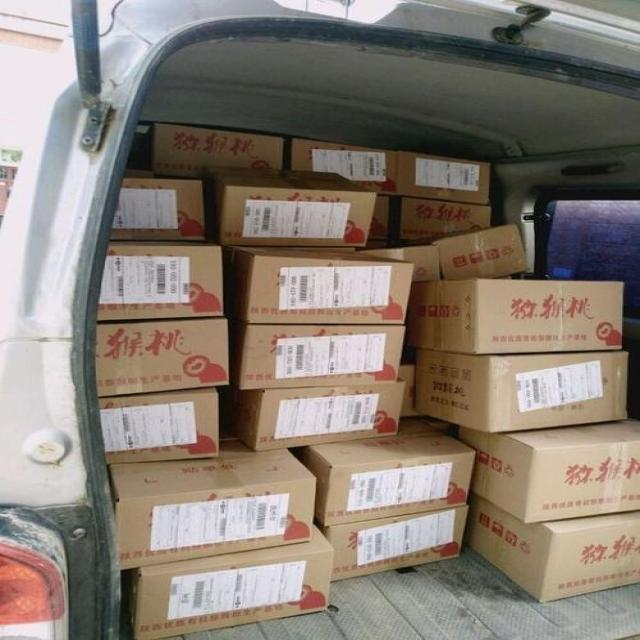box: (110, 440, 317, 573), (132, 526, 335, 640), (465, 493, 640, 603), (460, 422, 640, 524), (412, 348, 627, 433), (407, 279, 625, 355), (303, 431, 474, 527), (229, 247, 416, 325), (229, 321, 406, 390), (230, 382, 406, 451), (328, 505, 468, 583), (93, 319, 229, 397), (97, 242, 225, 323), (99, 386, 220, 465), (221, 186, 378, 246), (408, 224, 529, 281), (110, 185, 204, 240), (399, 195, 493, 239), (365, 246, 443, 283)
